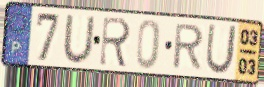0: (135, 18, 163, 72)
7: (35, 10, 61, 63)
R: (98, 15, 133, 70), (170, 22, 207, 72)
U: (61, 14, 97, 66), (204, 23, 239, 76)
